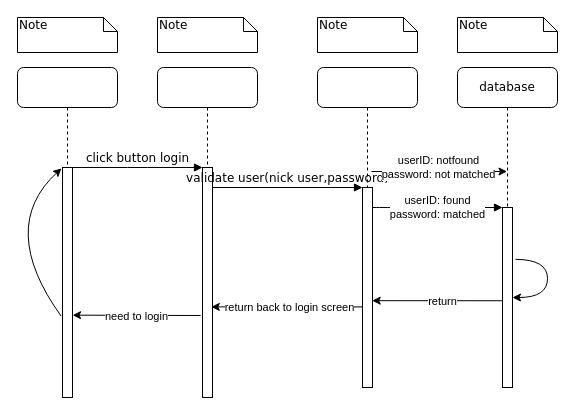
This 575x415 diagram has some shape labels left out. The box of each missing label's shape, as (x1, y1, x2, y2) in pixels:
login screen: (156, 66, 258, 398)
user/admin: (16, 66, 118, 398)
validate user: (316, 66, 418, 388)
